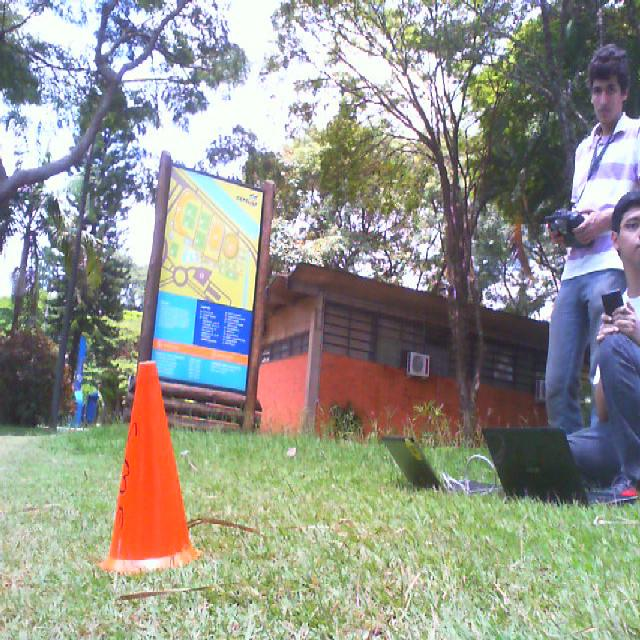cone: (102, 360, 202, 576)
